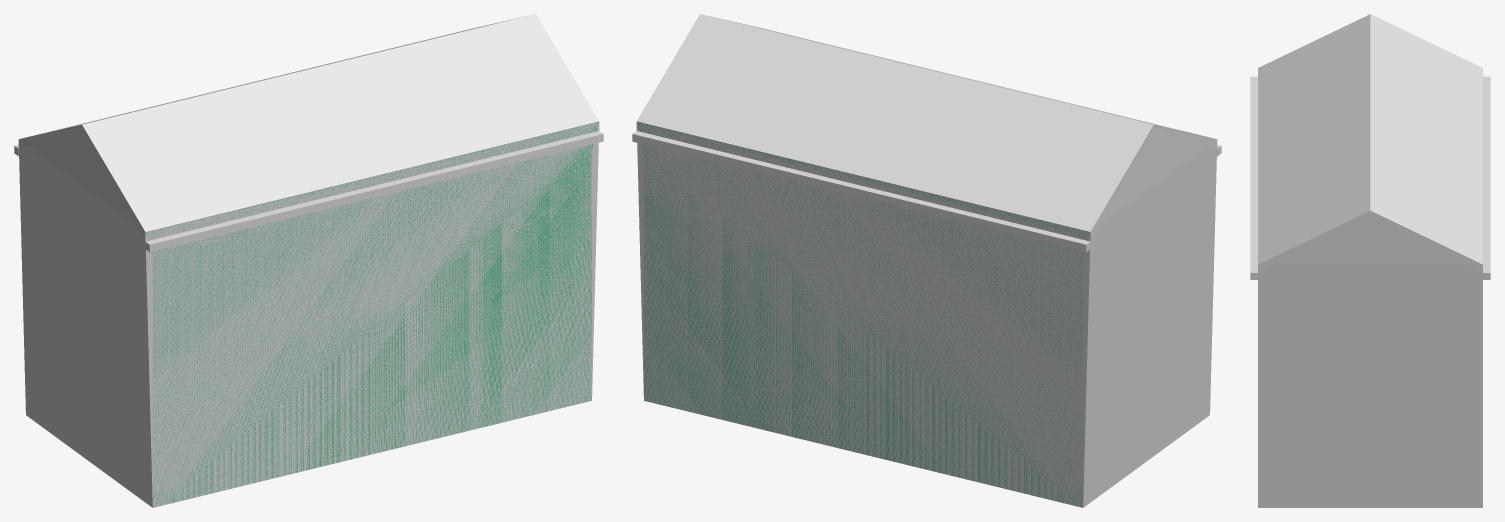
Rendered from eca_bld_filler_wall_01.dae.
The picture shows the model from 3 angles, left to right: view 1: azimuth 30°, elevation 25°; view 2: azimuth 150°, elevation 25°; view 3: azimuth 270°, elevation 25°; orthographic projection. The views are drawn at different scales.
Visible parts, largest first — view 1: ind_bld_a50, Colmesh-1, ind_bld_a650; view 2: ind_bld_a50, Colmesh-1, ind_bld_a650; view 3: ind_bld_a50, ind_bld_a650.
Boxes of the visible parts, <box> form: ind_bld_a50: <box>19,14,599,507</box>; Colmesh-1: <box>32,121,598,507</box>; ind_bld_a650: <box>14,16,603,507</box>; ind_bld_a50: <box>636,14,1216,507</box>; Colmesh-1: <box>637,121,1204,507</box>; ind_bld_a650: <box>632,16,1221,506</box>; ind_bld_a50: <box>1258,14,1482,507</box>; ind_bld_a650: <box>1250,20,1490,279</box>.
Size of the model in its own units: 12.4 by 6.4 by 8.84.
